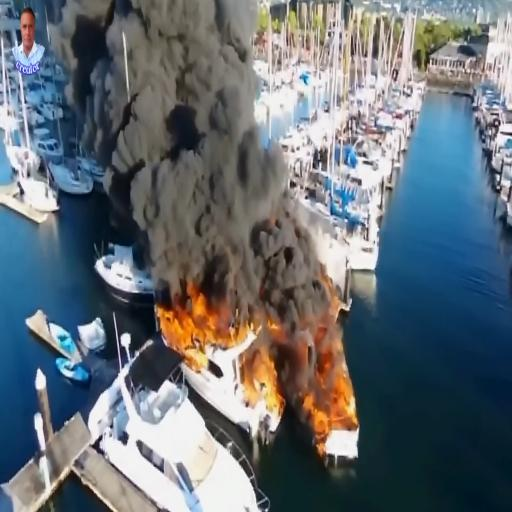fire: (317, 295, 353, 438), (158, 282, 219, 354), (247, 339, 279, 411)
smoke: (117, 108, 257, 264), (98, 0, 249, 116), (248, 210, 326, 328)
